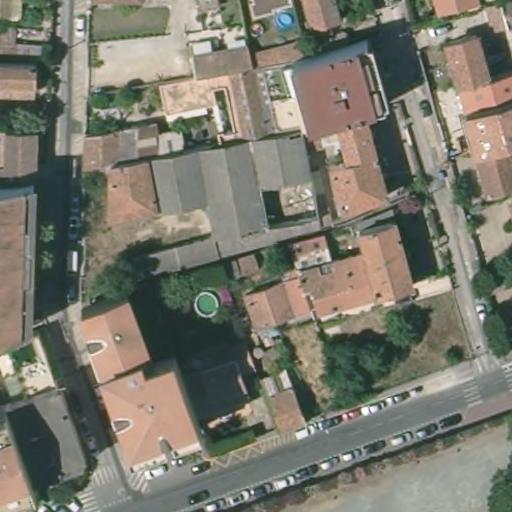pool: (190, 289, 222, 316), (269, 8, 298, 30)
